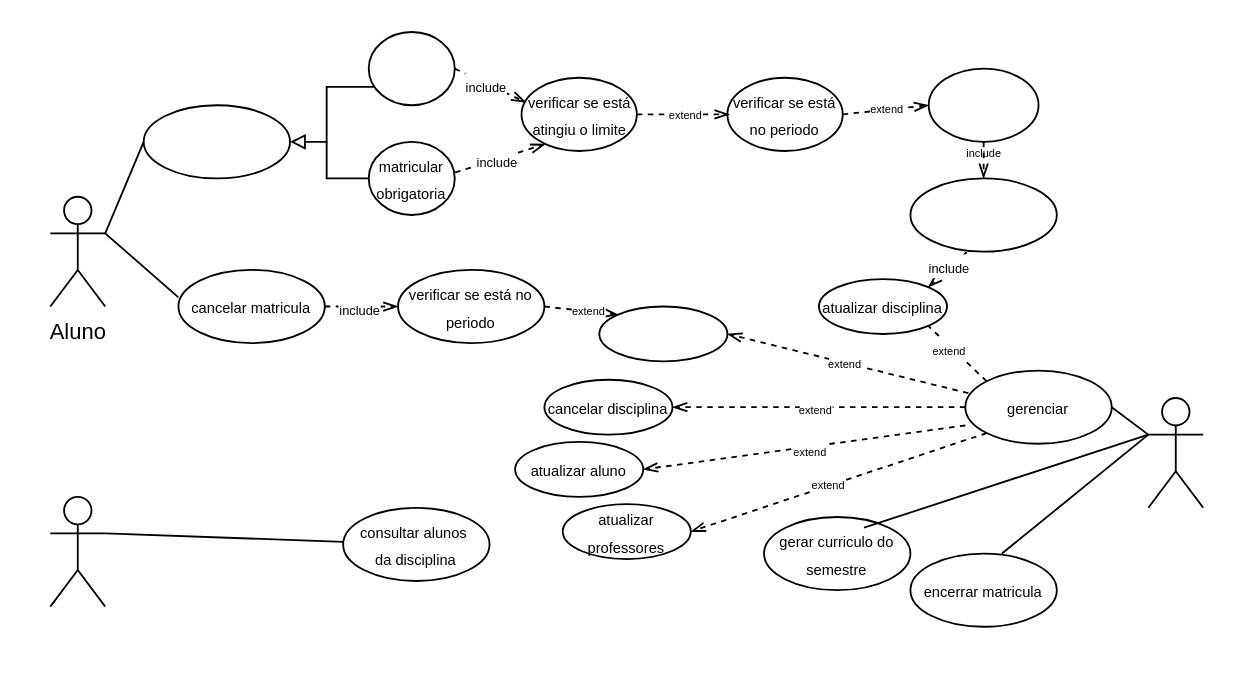
This 1246x677 diagram has some shape labels left out. Here are the shapes that lost their labels. From the top down, the box of each, then its label:
(367, 30, 455, 105): matricular optativa
(927, 67, 1039, 142): selecionar disciplina
(142, 103, 290, 178): matricular
(909, 177, 1057, 252): verificar se há vagas na disciplina
(597, 305, 727, 361): atualizar matricula
(1146, 396, 1203, 508): Sistema
(48, 495, 105, 607): Professor
